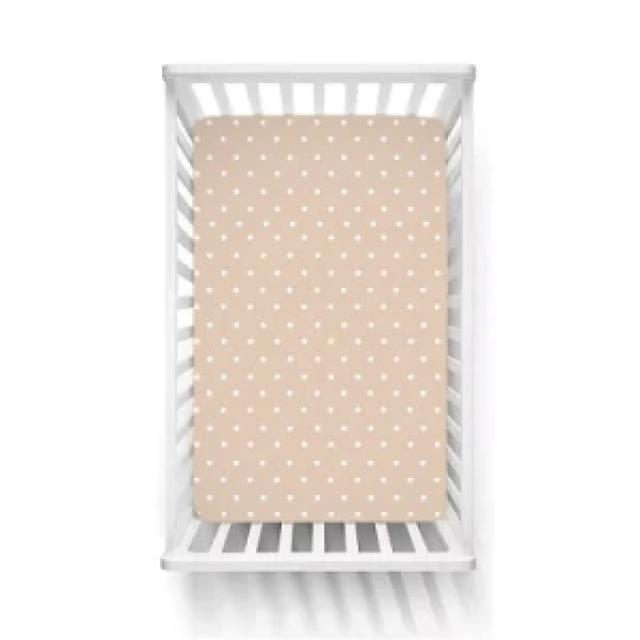crib: (158, 60, 478, 574)
